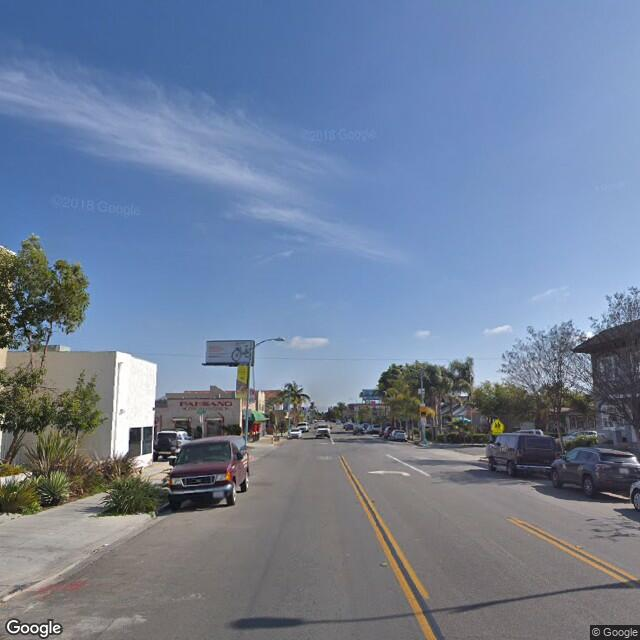road line: (348, 501, 407, 565), (527, 522, 598, 554), (340, 459, 376, 497), (390, 446, 423, 473)
window: (128, 422, 145, 458)
